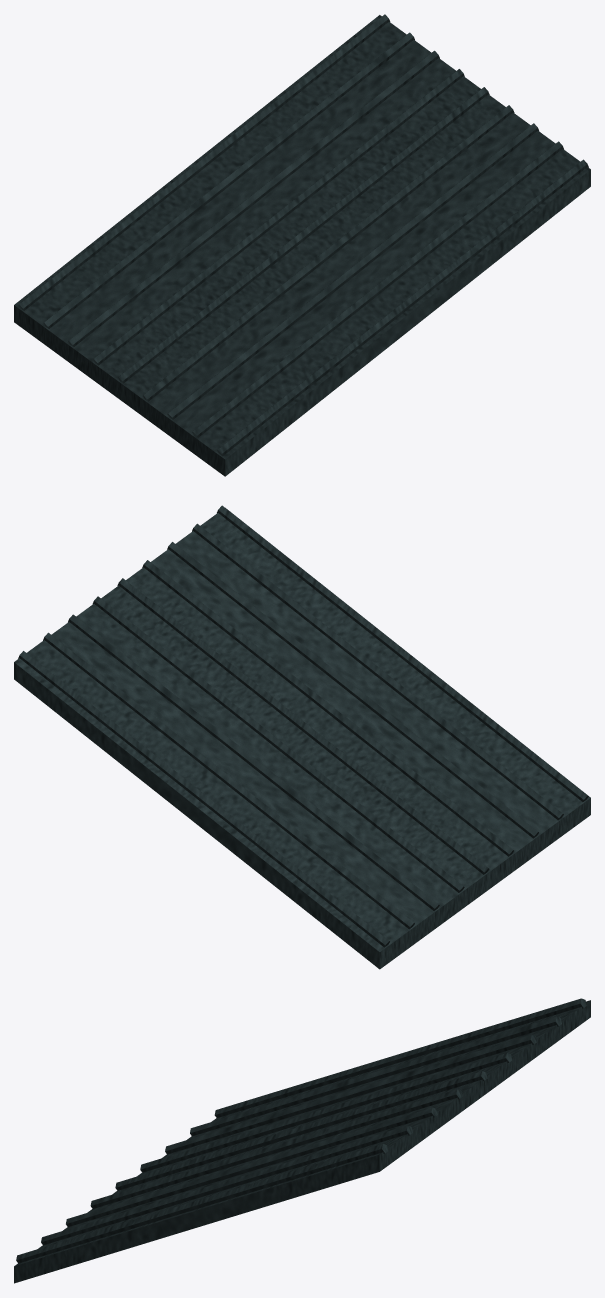
Rendered from Roof_Slope_R_2x2.glb.
3 renders of one model, top to bottom at view 1: azimuth 30°, elevation 25°; view 2: azimuth 150°, elevation 25°; view 3: azimuth 330°, elevation 25°, orthographic.
Visible parts, largest first — view 1: Roof_Slope_R_2x2; view 2: Roof_Slope_R_2x2; view 3: Roof_Slope_R_2x2.
Part boxes in pixels (left/top/right/bottom): Roof_Slope_R_2x2: left=14, top=14, right=590, bottom=476; Roof_Slope_R_2x2: left=14, top=505, right=590, bottom=969; Roof_Slope_R_2x2: left=14, top=998, right=590, bottom=1283.
Size of the model in its own units: 2.02 by 1.17 by 2.
1 material, 1 textured.
